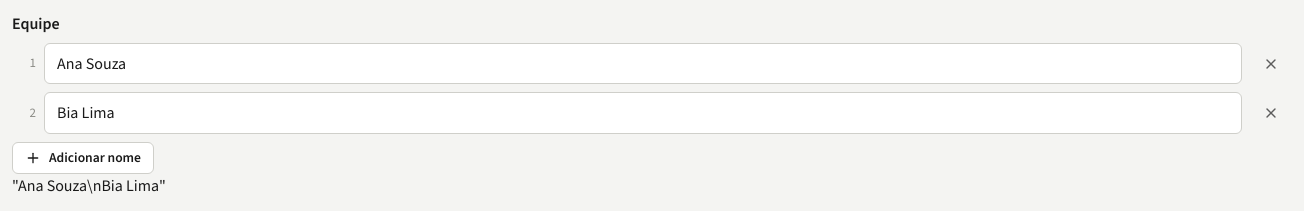
it: lista de nomes da equipe › remove um nome
The image size is (1304, 211).
What coordinates should you click on to do the following:
click the button named "Remover Ana Souza"
I would click on:
 (1271, 64)
Its box is [1250, 48, 1292, 80].
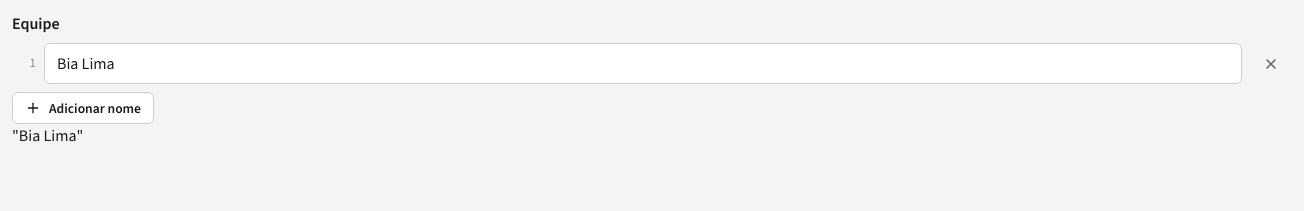
Expected: the field named "Nome 1" holds "Bia Lima", [44, 43, 1242, 84]
